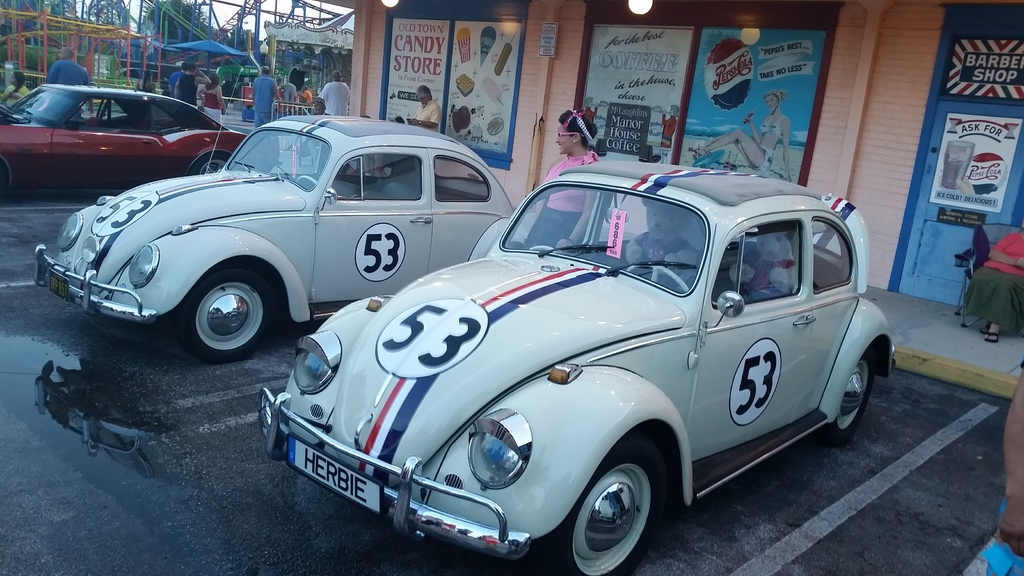Car: (255, 158, 899, 575), (33, 110, 513, 360), (0, 76, 279, 200)
